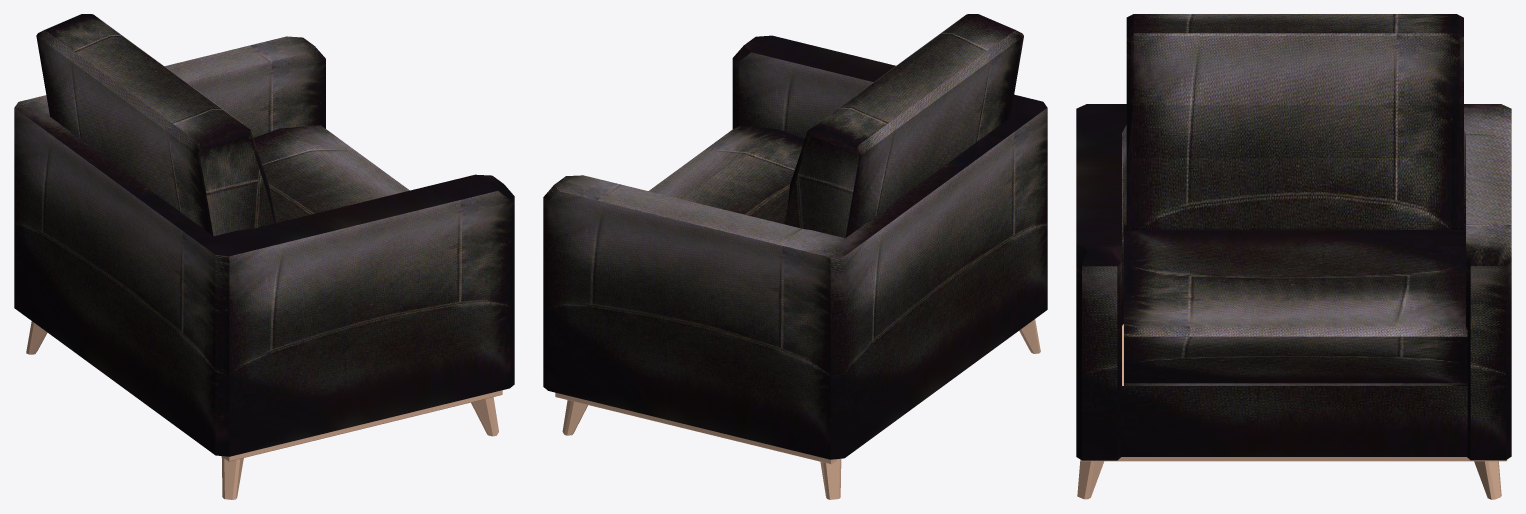
Rendered from 单人沙发.obj.
The picture shows the model from 3 angles, left to right: view 1: azimuth 30°, elevation 25°; view 2: azimuth 150°, elevation 25°; view 3: azimuth 270°, elevation 25°; orthographic projection. The views are drawn at different scales.
Parts seen in each view (by area): view 1: Line033, Box1763, Box1766, Box1764, Box1765; view 2: Line033, Box1763, Box1766, Box1764, Box1765; view 3: Box1763, Box1766, Line033, Box1767, Box1765, Box1764.
Part boxes in pixels (x1,y1,x2,y2): Line033: (14, 36, 514, 456); Box1763: (36, 14, 275, 236); Box1766: (253, 125, 409, 222); Box1764: (26, 321, 498, 499); Box1765: (223, 390, 502, 461); Line033: (543, 35, 1047, 459); Box1763: (784, 14, 1023, 238); Box1766: (648, 126, 804, 223); Box1764: (562, 319, 1040, 499); Box1765: (555, 392, 838, 464); Box1763: (1126, 14, 1463, 229); Box1766: (1124, 224, 1467, 385); Line033: (1076, 104, 1511, 460); Box1767: (1120, 386, 1467, 456); Box1765: (1080, 324, 1507, 461); Box1764: (1077, 461, 1501, 499).
Size of the model in its own units: 69.5 by 76.82 by 85.51.
